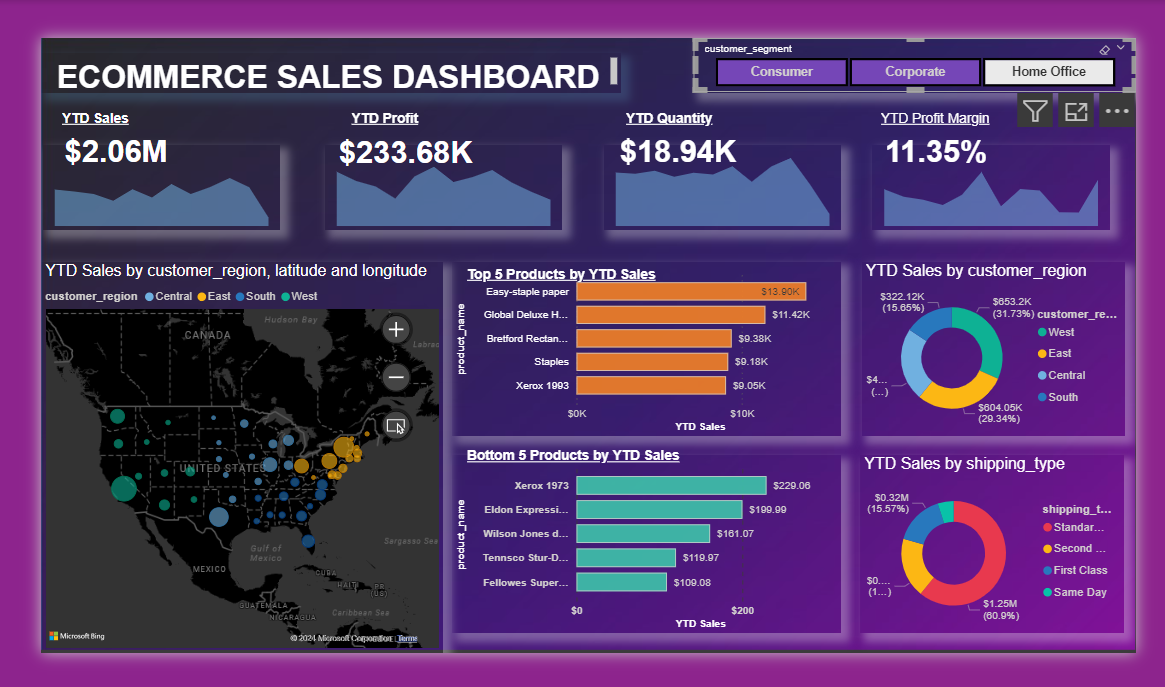

The dashboard page shown, as its layout file describes it:
{"tool":"powerbi","page":{"name":"Page 1","canvas":[1280,720],"ordinal":0},"visuals":[{"type":"textbox","box":[0,17,678.7,46.8],"z":0},{"type":"card","fields":{"Values":["ecommerce_data.YTD Sales"]},"box":[0,102.1,174.5,57.4],"z":1000},{"type":"areaChart","fields":{"Category":["Calender.Month"],"Y":["Sum(ecommerce_data.sales_per_order)"]},"box":[1.6,125,278.2,100],"z":2000},{"type":"map","fields":{"Y":["us_state_long_lat_codes.latitude"],"X":["us_state_long_lat_codes.longitude"],"Size":["ecommerce_data.YTD Sales"],"Series":["ecommerce_data.customer_region"]},"box":[0,261.7,470.2,457.4],"z":3000},{"type":"barChart","fields":{"Category":["ecommerce_data.product_name"],"Y":["ecommerce_data.YTD Sales"]},"box":[480.9,261.7,455.3,204.3],"z":4000},{"type":"barChart","fields":{"Category":["ecommerce_data.product_name"],"Y":["ecommerce_data.YTD Sales"]},"box":[480.9,487.2,455.3,208.5],"z":5000},{"type":"donutChart","fields":{"Y":["ecommerce_data.YTD Sales"],"Category":["ecommerce_data.customer_region"]},"box":[959.6,261.7,308.5,204.3],"z":6000},{"type":"donutChart","fields":{"Y":["ecommerce_data.YTD Sales"],"Category":["ecommerce_data.shipping_type"]},"box":[957.4,487.2,308.5,208.5],"z":7000},{"type":"slicer","fields":{"Values":["ecommerce_data.customer_segment"]},"box":[763.8,0,517,63.8],"z":8000},{"type":"card","fields":{"Values":["Calender.YTD Profit"]},"box":[339.2,103.2,175.1,56.3],"z":9000},{"type":"areaChart","fields":{"Category":["Calender.Month"],"Y":["Sum(ecommerce_data.profit_per_order)"]},"box":[331.4,125,278.2,100],"z":10000},{"type":"areaChart","fields":{"Category":["Calender.Month"],"Y":["Sum(ecommerce_data.order_quantity)"]},"box":[658,125,278.2,100],"z":11000},{"type":"areaChart","fields":{"Category":["Calender.Month"],"Y":["Calender.Profit Margin"]},"box":[972.2,125,278.2,100],"z":12000},{"type":"textbox","box":[19.1,78.7,121.3,34],"z":13000},{"type":"textbox","box":[357.9,79.7,156.3,46.9],"z":14000},{"type":"card","fields":{"Values":["ecommerce_data.YTD Qty"]},"box":[657.9,101.8,173.7,57.9],"z":15000},{"type":"textbox","box":[678.3,78.1,164.1,34.4],"z":16000},{"type":"textbox","box":[976.6,78.7,168.1,34],"z":17000},{"type":"card","fields":{"Values":["Calender.YTD Profit Margin"]},"box":[959.6,101.8,173.7,57.9],"z":18000},{"type":"textbox","box":[493.6,261.7,274.5,34],"z":19000},{"type":"textbox","box":[493.6,474.5,293.6,34],"z":20000}]}

Visuals, with their boxes in screenshot pixels (x1, y1, x2, y2):
textbox: bbox=(36, 45, 624, 86)
card - ecommerce_data.YTD Sales: bbox=(36, 119, 187, 168)
areaChart - Calender.Month x Sum(ecommerce_data.sales_per_order): bbox=(38, 139, 279, 225)
map - us_state_long_lat_codes.latitude x us_state_long_lat_codes.longitude: bbox=(36, 257, 443, 653)
barChart - ecommerce_data.product_name x ecommerce_data.YTD Sales: bbox=(453, 257, 847, 434)
barChart - ecommerce_data.product_name x ecommerce_data.YTD Sales: bbox=(453, 452, 847, 633)
donutChart - ecommerce_data.YTD Sales x ecommerce_data.customer_region: bbox=(867, 257, 1134, 434)
donutChart - ecommerce_data.YTD Sales x ecommerce_data.shipping_type: bbox=(865, 452, 1132, 633)
slicer - ecommerce_data.customer_segment: bbox=(698, 30, 1145, 86)
card - Calender.YTD Profit: bbox=(330, 120, 482, 168)
areaChart - Calender.Month x Sum(ecommerce_data.profit_per_order): bbox=(323, 139, 564, 225)
areaChart - Calender.Month x Sum(ecommerce_data.order_quantity): bbox=(606, 139, 847, 225)
areaChart - Calender.Month x Calender.Profit Margin: bbox=(878, 139, 1119, 225)
textbox: bbox=(53, 98, 158, 128)
textbox: bbox=(346, 99, 482, 140)
card - ecommerce_data.YTD Qty: bbox=(606, 118, 756, 169)
textbox: bbox=(624, 98, 766, 128)
textbox: bbox=(882, 98, 1027, 128)
card - Calender.YTD Profit Margin: bbox=(867, 118, 1018, 169)
textbox: bbox=(464, 257, 701, 286)
textbox: bbox=(464, 441, 718, 471)
